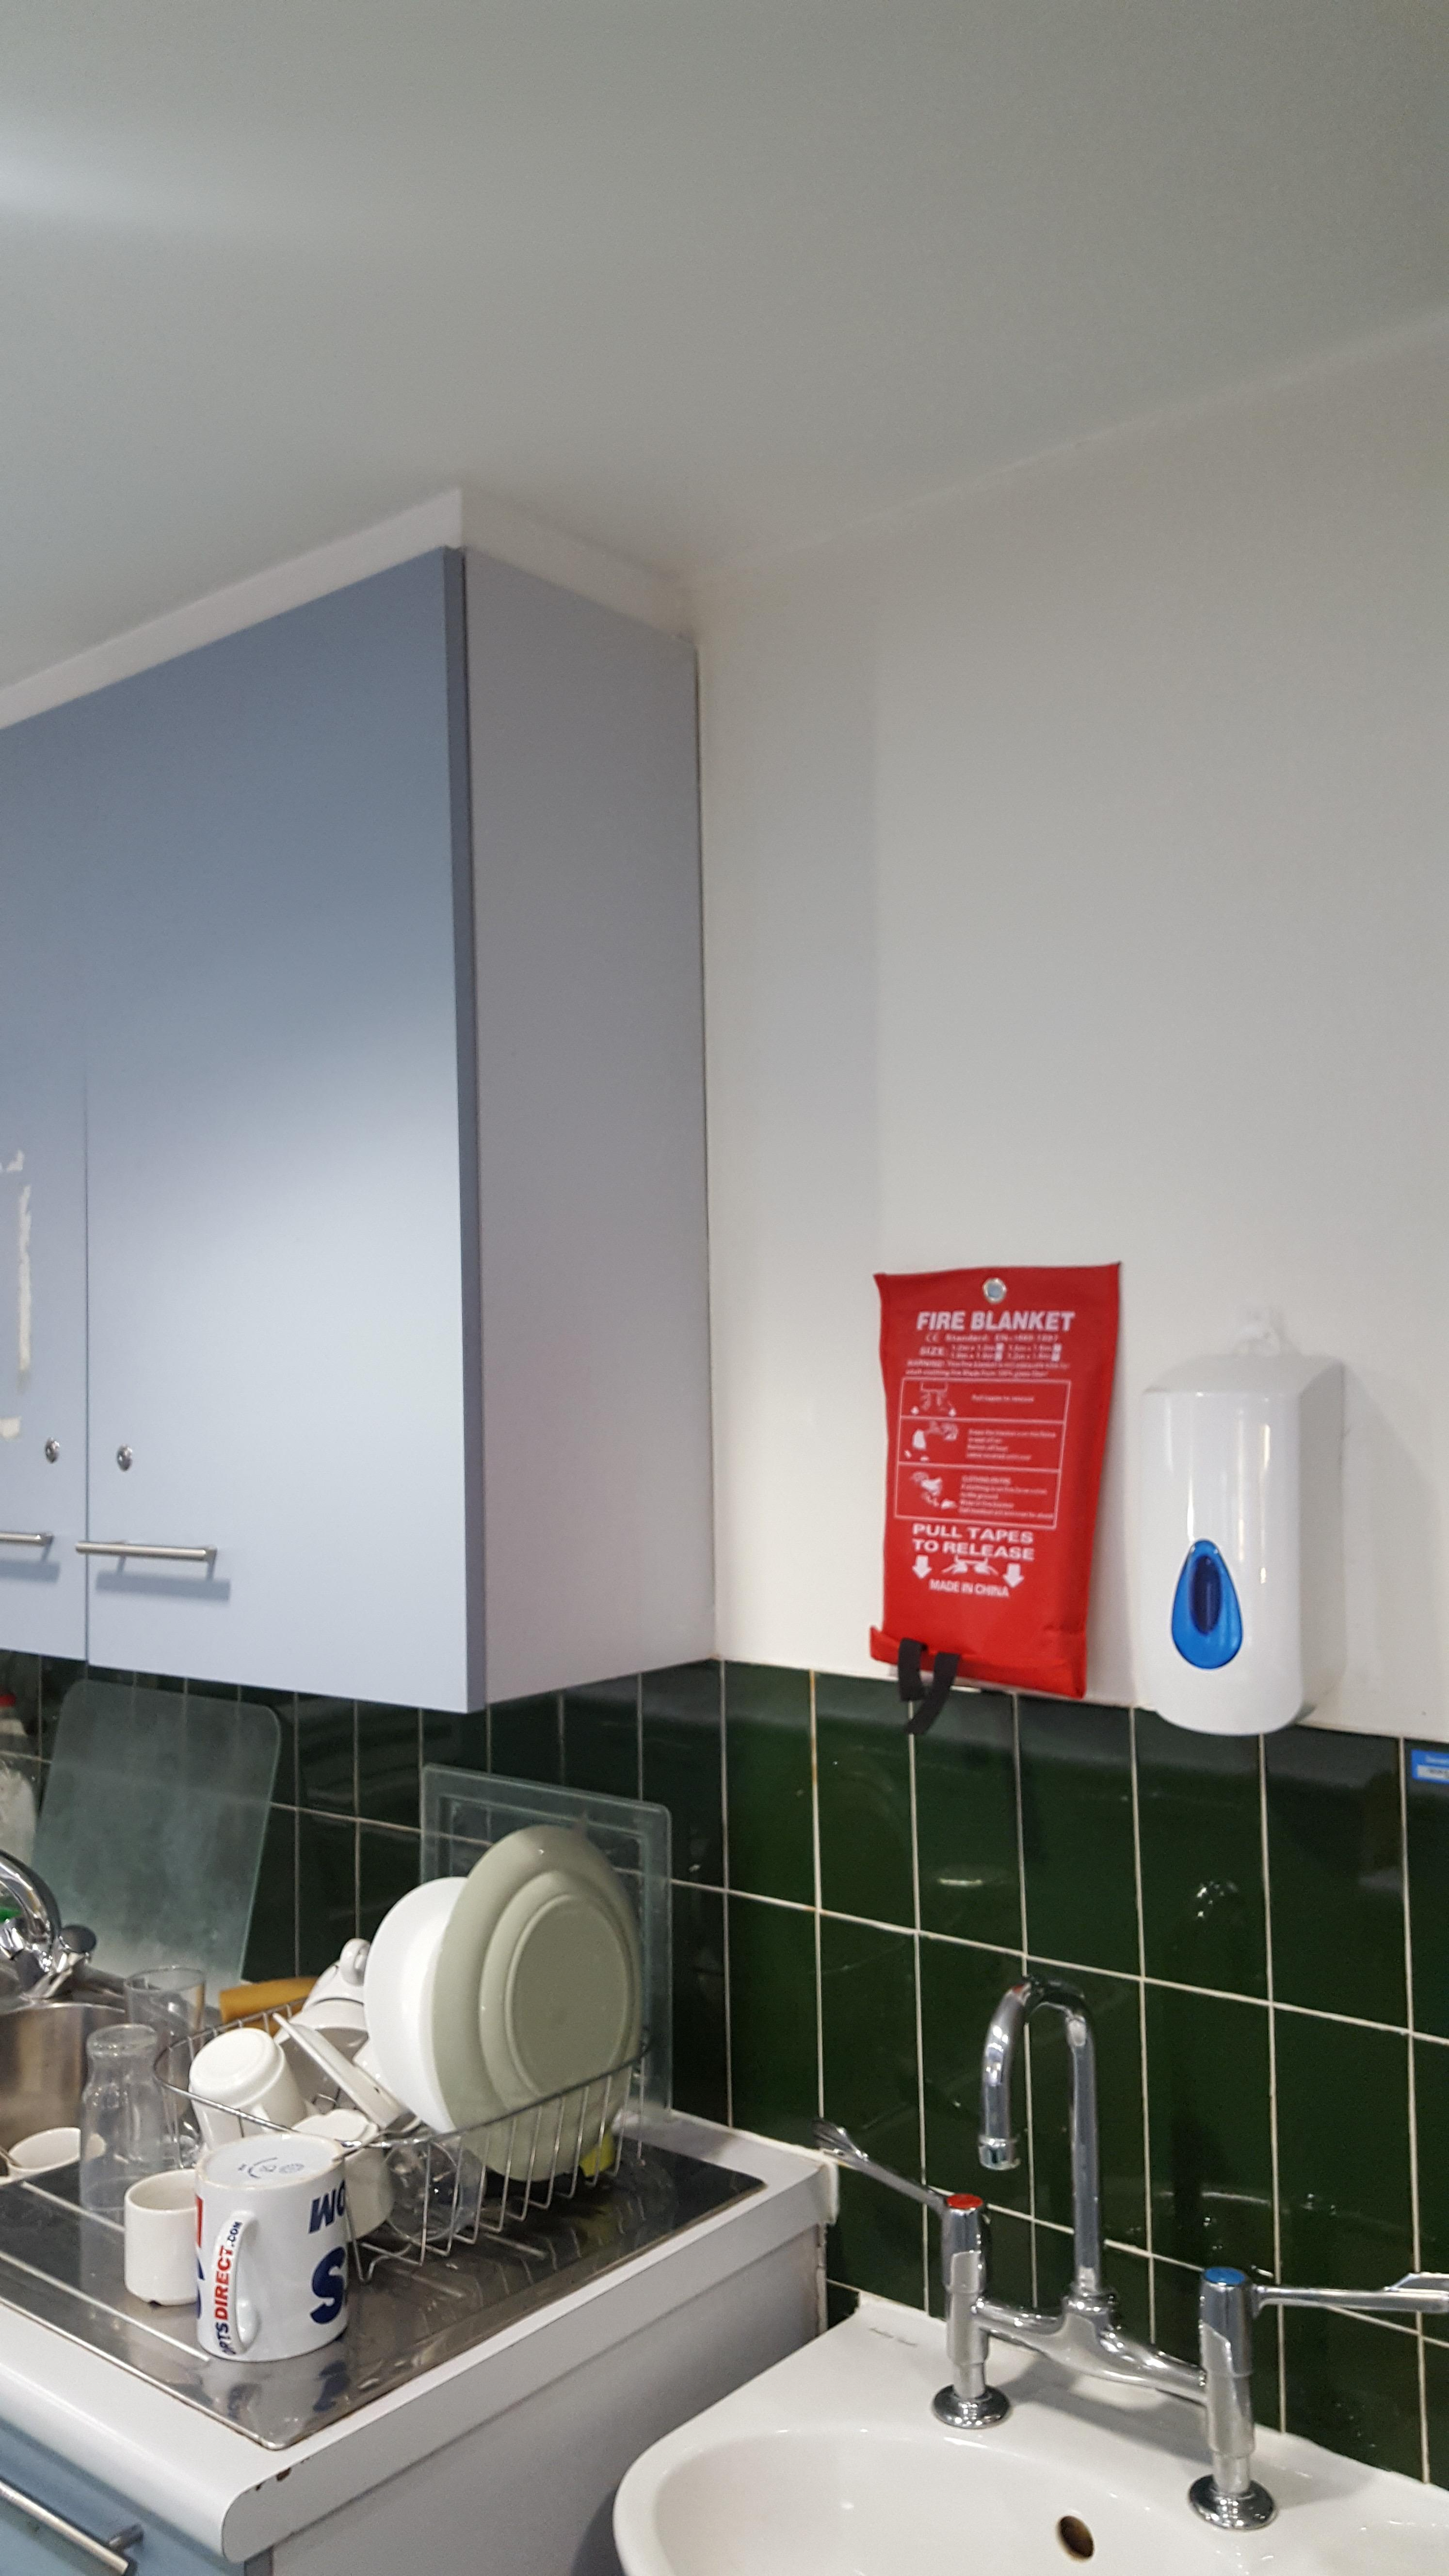blanket: (868, 1260, 1122, 1700)
